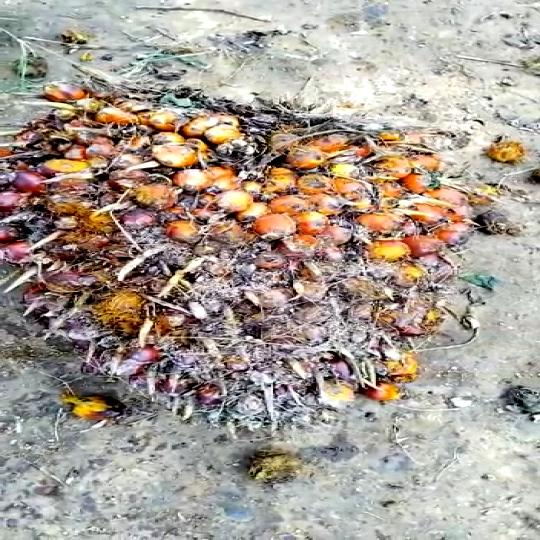masak: (1, 75, 524, 438)
